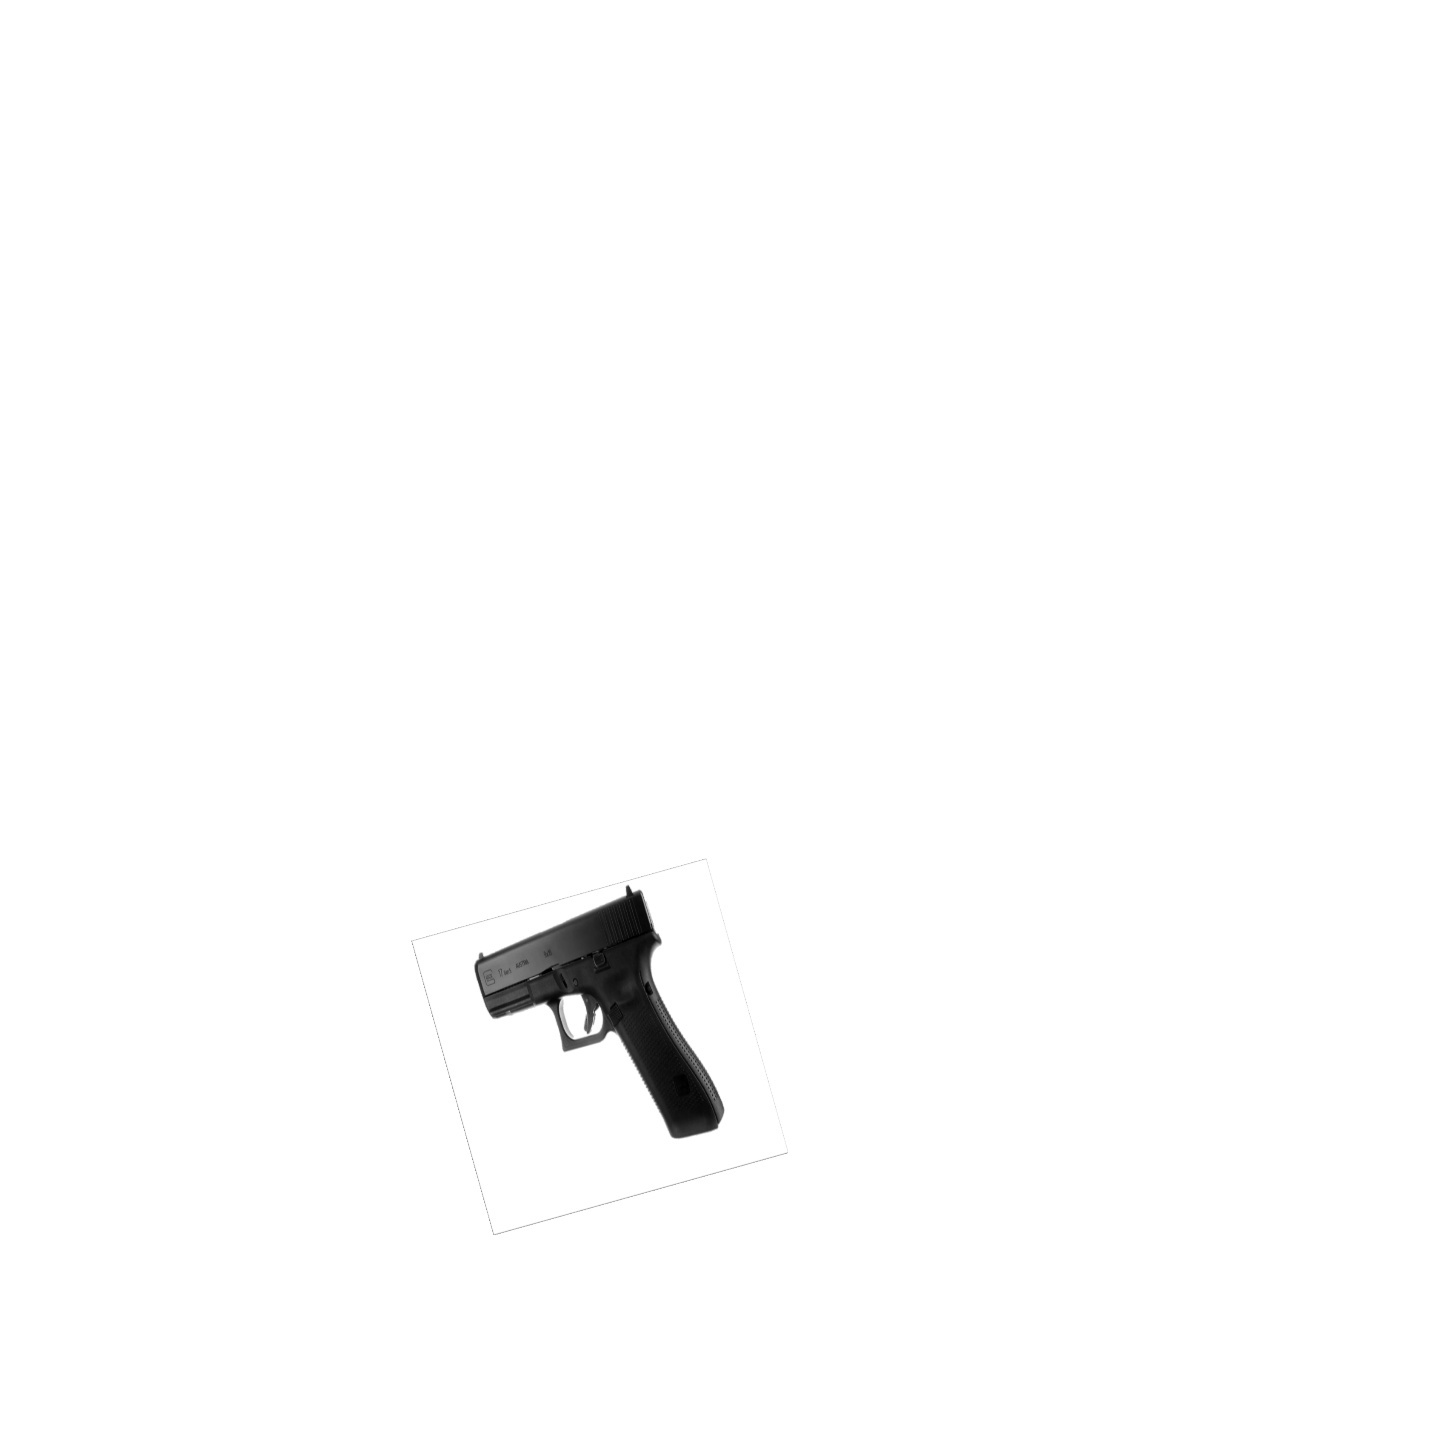gun: (465, 877, 730, 1144)
